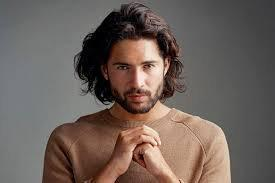Sober: (113, 44, 163, 104)
